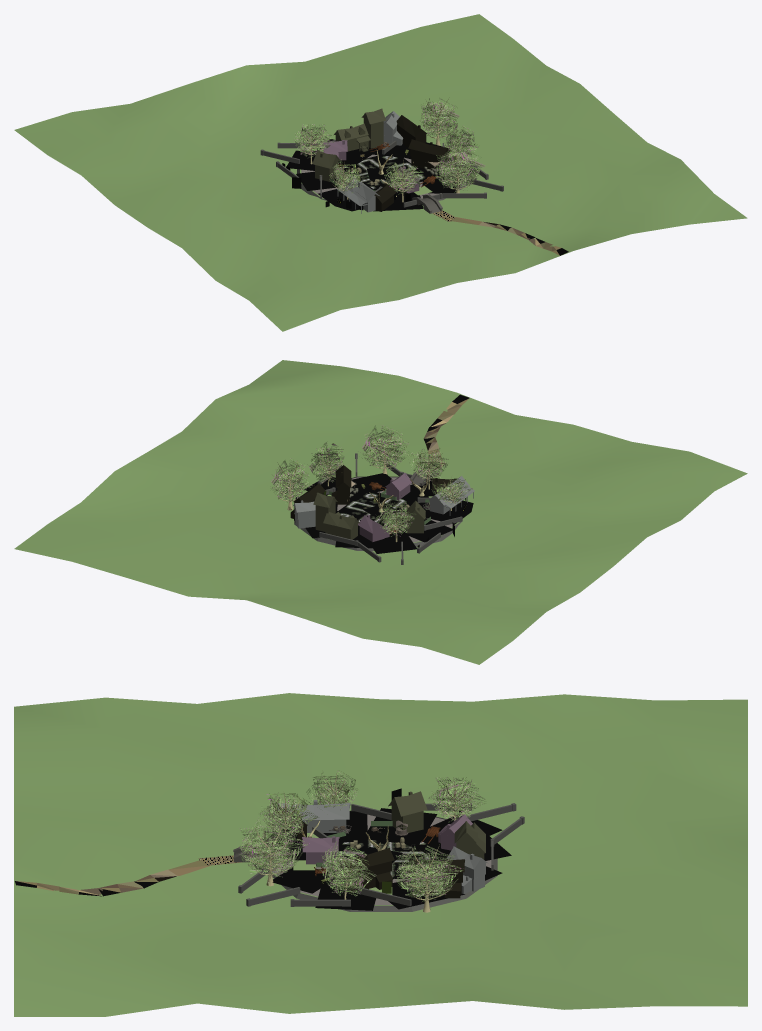
The picture shows the model from 3 angles, top to bottom: view 1: azimuth 30°, elevation 25°; view 2: azimuth 150°, elevation 25°; view 3: azimuth 270°, elevation 25°; orthographic projection. The views are drawn at different scales.
Visible parts, largest first — view 1: Ground, Leafe5, Build5, Leafe 03, Layout, Build, Leafe 01, Path, Build2, Leafe3, Leafe 02, Tower (+2 smaller); view 2: Ground, Leafe5, Build5, Leafe 03, Layout, Leafe 02, Path, Leafe 01, Leafe3, Build2, Bottom 01, Build (+4 smaller); view 3: Ground, Leafe5, Leafe 03, Path, Leafe 02, Leafe 01, Leafe3, Build2, Build, Leafe4, Layout, Tower (+13 smaller).
Boxes of the visible parts, box(x1,y1,x2,y2) form: Ground: box(14, 14, 747, 331); Leafe5: box(435, 148, 484, 192); Build5: box(334, 108, 385, 151); Leafe 03: box(420, 98, 459, 140); Layout: box(344, 155, 425, 188); Build: box(408, 139, 450, 171); Leafe 01: box(294, 124, 333, 157); Path: box(432, 210, 568, 255); Build2: box(336, 175, 379, 213); Leafe3: box(384, 162, 424, 194); Leafe 02: box(444, 123, 479, 159); Tower: box(312, 150, 340, 181); Ground: box(14, 360, 747, 664); Leafe5: box(358, 425, 415, 471); Build5: box(313, 492, 359, 539); Leafe 03: box(270, 458, 312, 503); Layout: box(338, 492, 411, 527); Leafe 02: box(307, 442, 344, 483); Path: box(423, 394, 469, 469); Leafe 01: box(375, 502, 415, 536); Leafe3: box(409, 447, 448, 481); Build2: box(428, 476, 474, 515); Bottom 01: box(366, 528, 416, 553); Build: box(331, 465, 351, 504); Ground: box(14, 693, 747, 1016); Leafe5: box(239, 817, 309, 878); Leafe 03: box(394, 845, 462, 901); Path: box(15, 855, 241, 896); Leafe 02: box(319, 841, 376, 896); Leafe 01: box(428, 777, 485, 822); Leafe3: box(258, 792, 318, 836); Build2: box(277, 800, 350, 832); Build: box(337, 847, 394, 893); Leafe4: box(303, 770, 358, 809); Layout: box(330, 839, 431, 878); Tower: box(388, 791, 427, 832).
Size of the model in its own units: 8000 by 845 by 8000.
26 materials, 26 textured.
